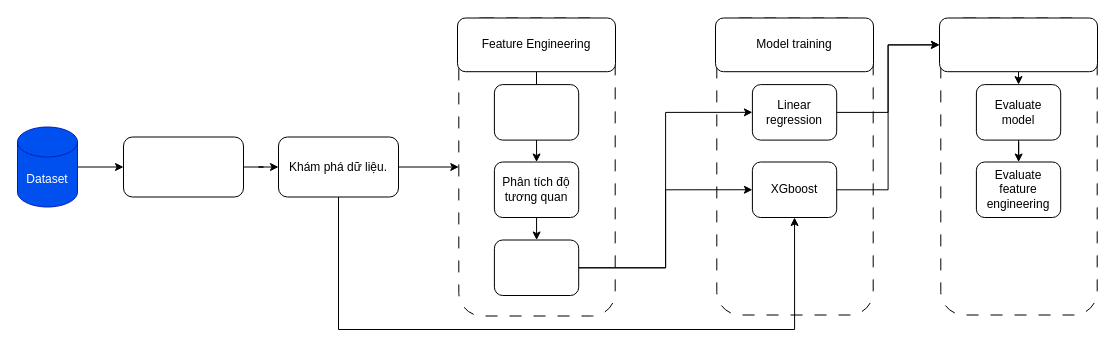
The diagram is 1115 pixels wide and 355 high, and some of its shapes have lost their labels. Each missing label, with the box of its shape:
Evaluate: (938, 17, 1098, 72)
Lọc dữ liệu theo hai phân tích: (493, 239, 579, 296)
Phân tích ANOVA: (493, 84, 579, 140)
Định nghĩa bài toán: (122, 136, 244, 197)
